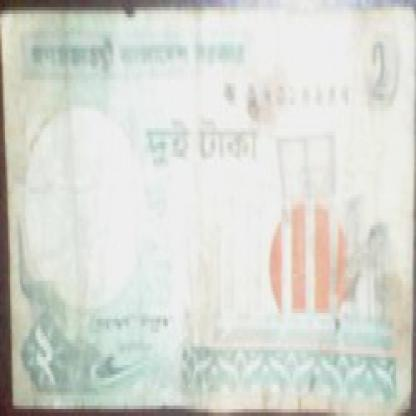two taka: (358, 31, 413, 125), (31, 330, 75, 413)
